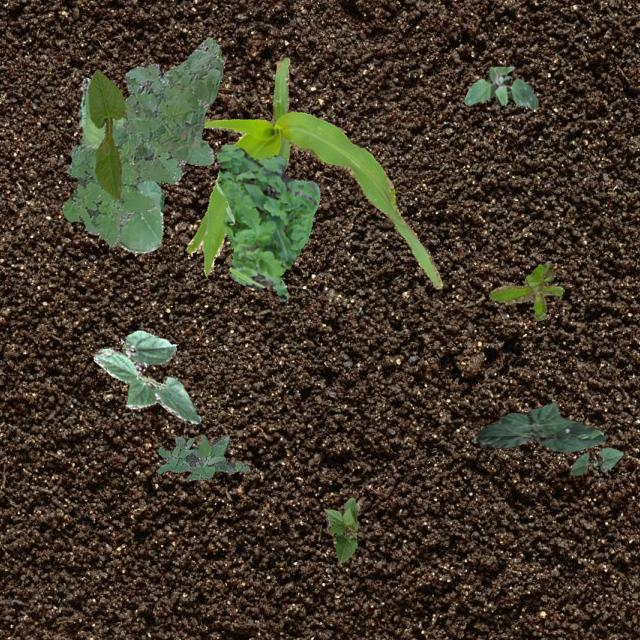crop: (186, 56, 442, 288), (78, 76, 164, 252), (92, 328, 200, 422), (476, 400, 604, 450), (86, 68, 124, 198), (322, 496, 358, 562), (568, 446, 622, 474)
weed: (61, 36, 222, 246), (215, 144, 318, 300), (488, 264, 564, 320), (156, 434, 250, 479), (463, 66, 538, 108)
